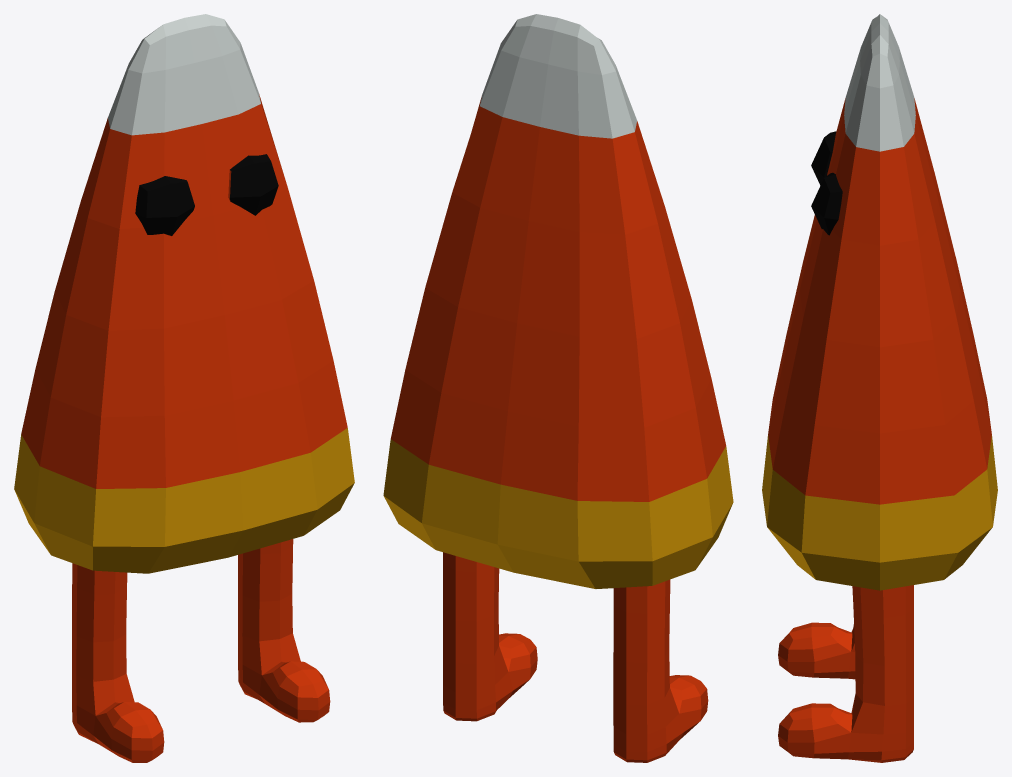
Rendered from crazycorn.obj.
3 views of the same model, side by side, from view 1: azimuth 30°, elevation 25°; view 2: azimuth 150°, elevation 25°; view 3: azimuth 270°, elevation 25° (orthographic). The views are drawn at different scales.
Visible parts, largest first — view 1: Cube001, Cube001_1, Cube001_2, Cube001_3; view 2: Cube001, Cube001_1, Cube001_2; view 3: Cube001, Cube001_1, Cube001_2, Cube001_3.
Part boxes in pixels (x1=…): Cube001: x1=21, y1=94, x2=347, y2=762; Cube001_1: x1=14, y1=428, x2=354, y2=573; Cube001_2: x1=108, y1=14, x2=260, y2=135; Cube001_3: x1=135, y1=154, x2=278, y2=235; Cube001: x1=390, y1=97, x2=726, y2=762; Cube001_1: x1=383, y1=439, x2=733, y2=588; Cube001_2: x1=480, y1=14, x2=637, y2=138; Cube001: x1=768, y1=98, x2=991, y2=762; Cube001_1: x1=762, y1=435, x2=997, y2=590; Cube001_2: x1=844, y1=14, x2=915, y2=151; Cube001_3: x1=811, y1=131, x2=842, y2=235.
Size of the model in its own units: 255 by 562 by 174.
